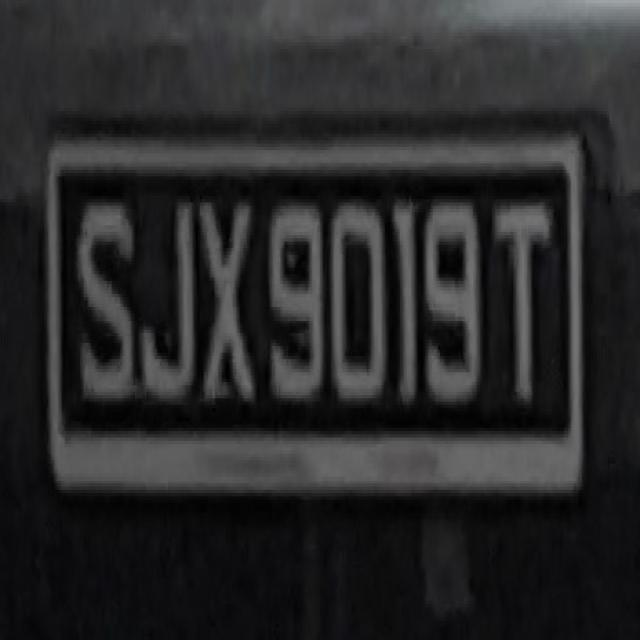0: (327, 190, 389, 412)
1: (390, 176, 421, 415)
9: (422, 192, 487, 412), (263, 200, 323, 398)
J: (134, 176, 198, 412)
S: (73, 186, 134, 418)
T: (490, 192, 539, 412)
X: (197, 183, 254, 421)
